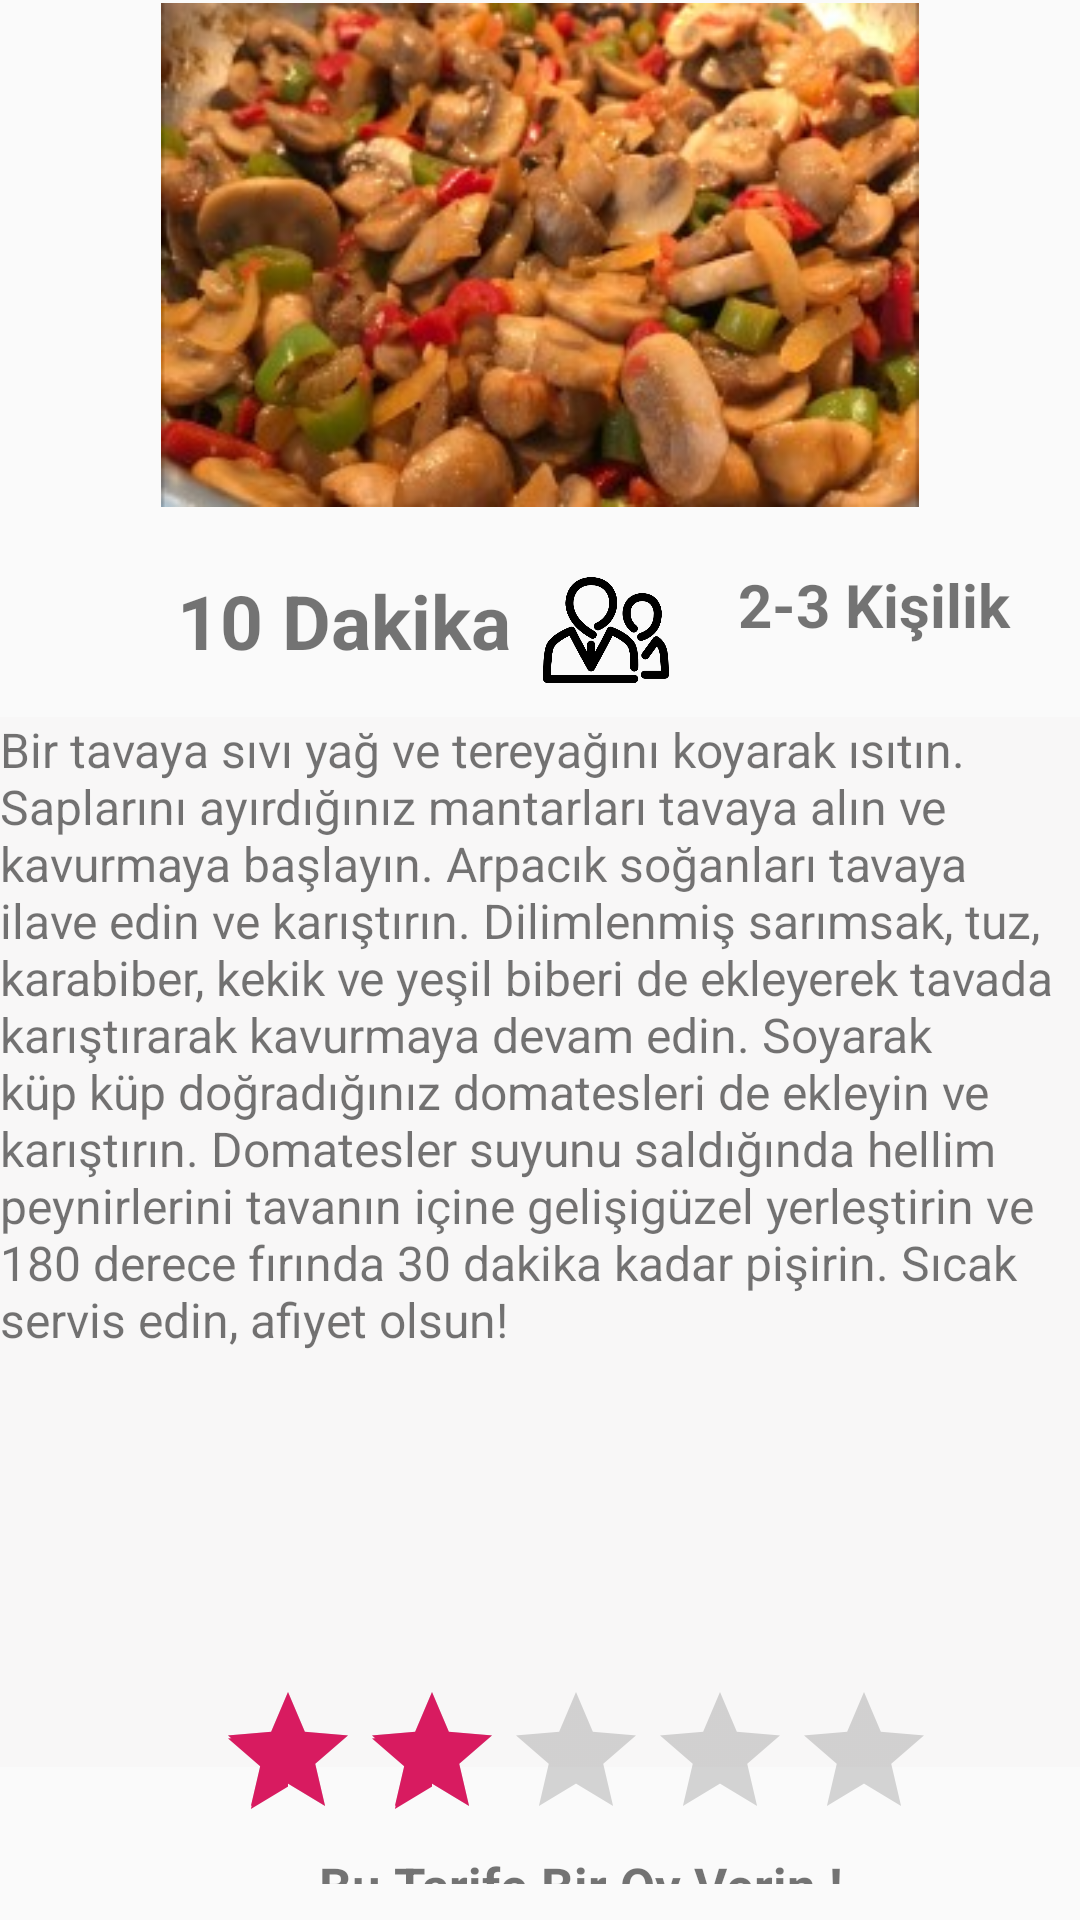

Where to tap for icons on this 1080x1920 app screen, as (x=x, y=y):
personicon: (x=606, y=630)
